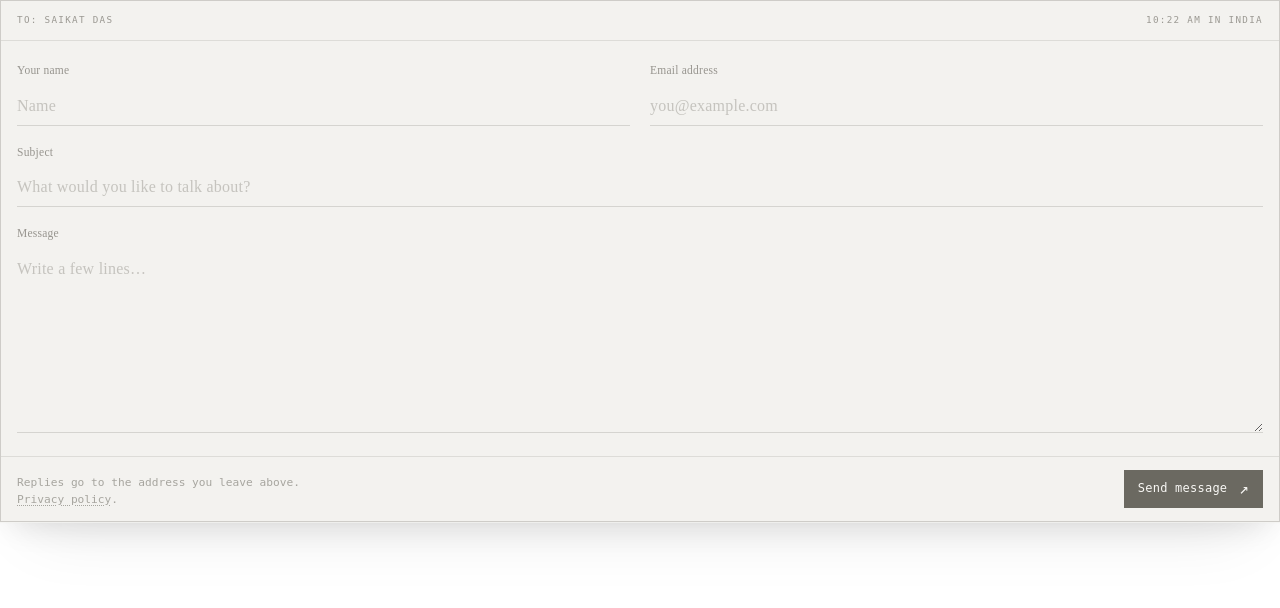
Test: ContactForm › explains a rate limit and returns to idle once the visitor edits
The width and height of the screenshot is (1280, 608).
Type "Ada Example" into the field labelled "Your name" at (324, 106), box [17,87,630,126]
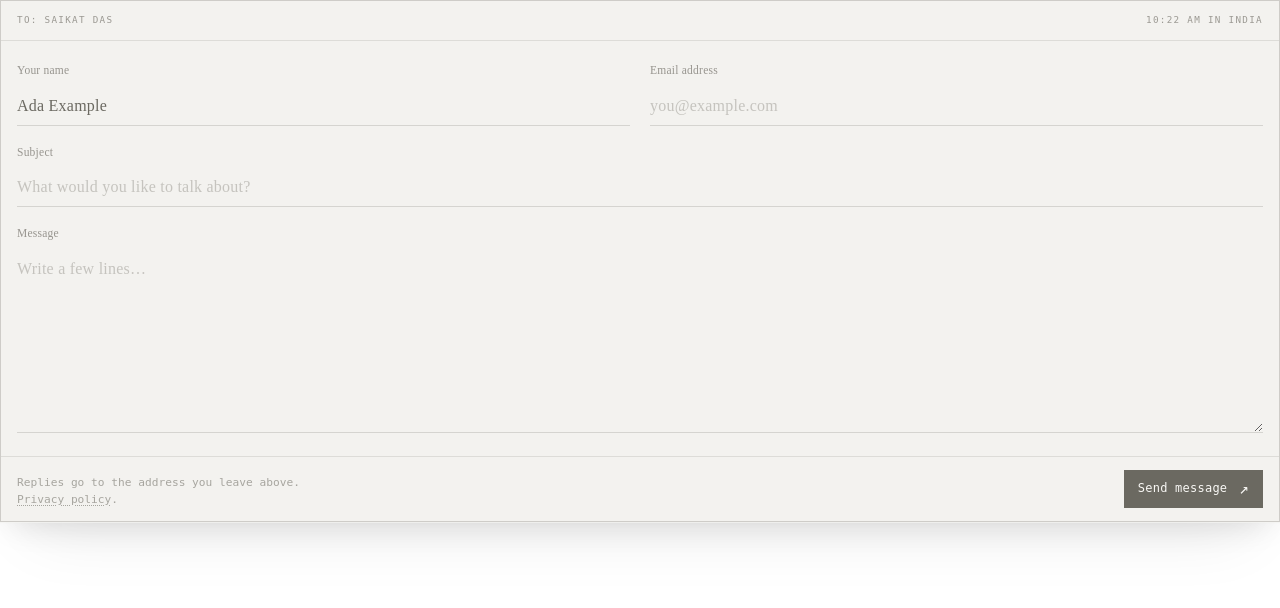
Type "ada@example.com" into the field labelled "Email address" at (956, 106), box [650,87,1263,126]
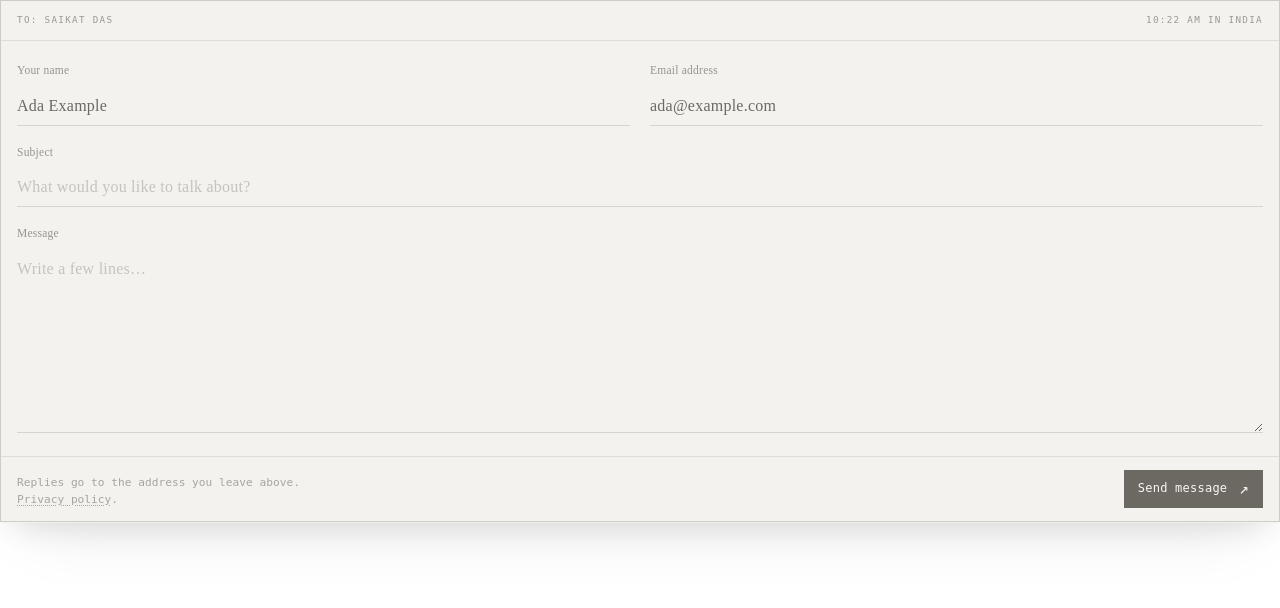
Type "A product question" into the field labelled "Subject" at (640, 188), box [17,168,1263,207]
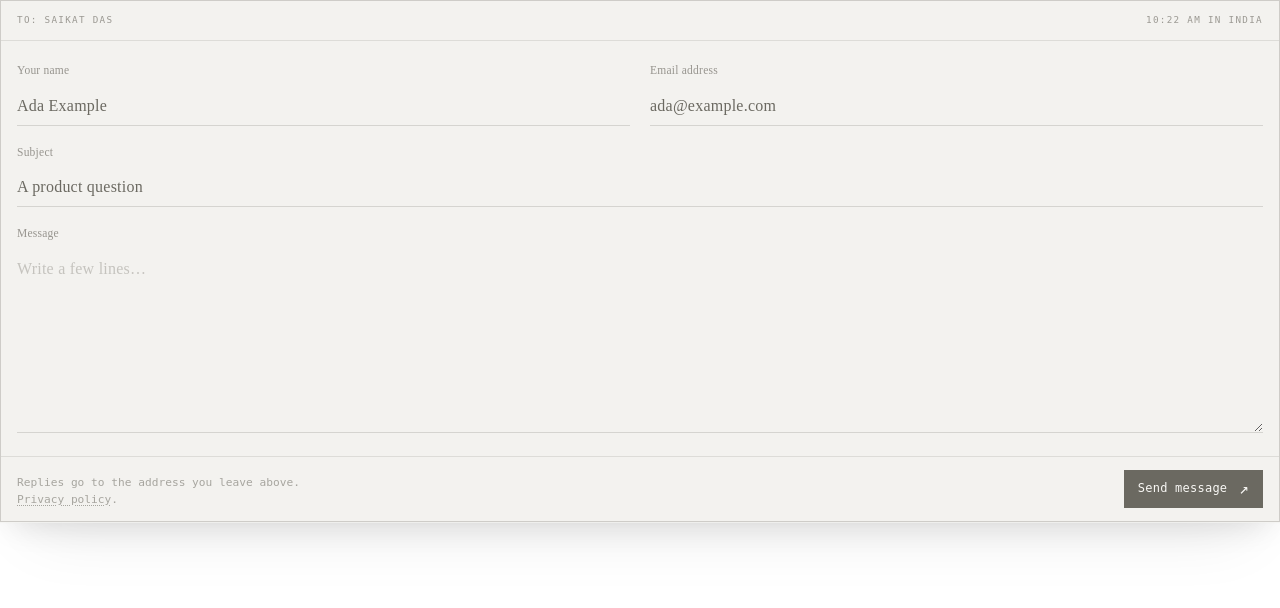
Type "I would like to discuss a product idea." into the text box labelled "Message" at (640, 341), box [17,250,1263,433]
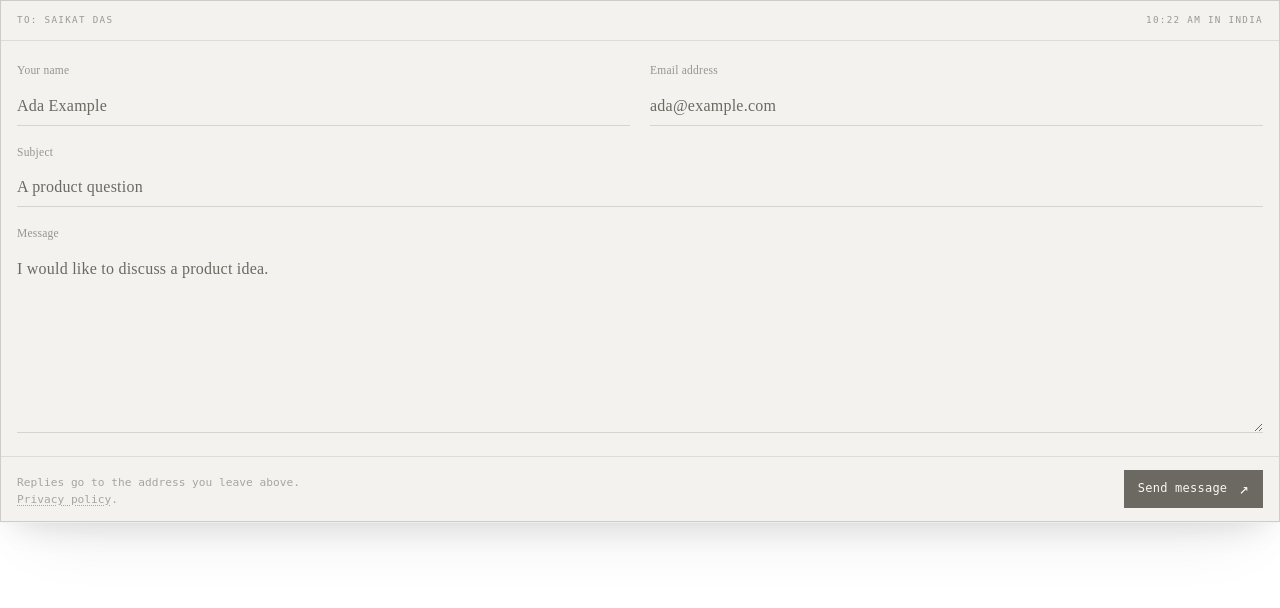
Submit the form
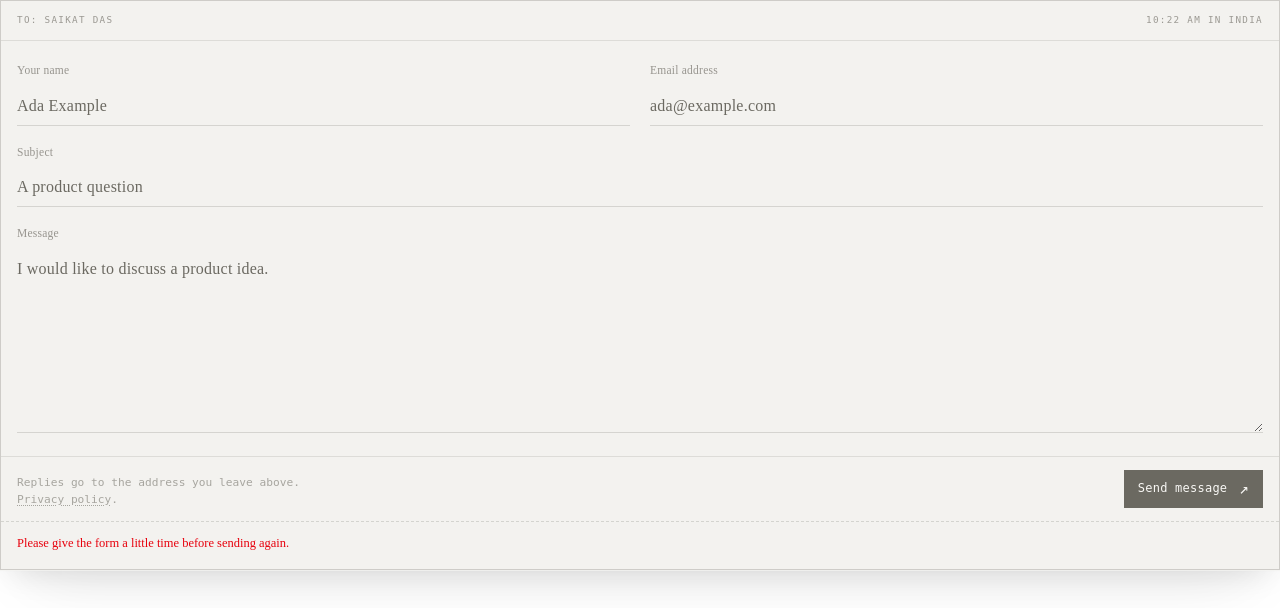
Now the message shows "a little time", box [17,536,289,550]
Replace the text in the field labelled "Subject" with "Edited" at (640, 188), box [17,168,1263,207]
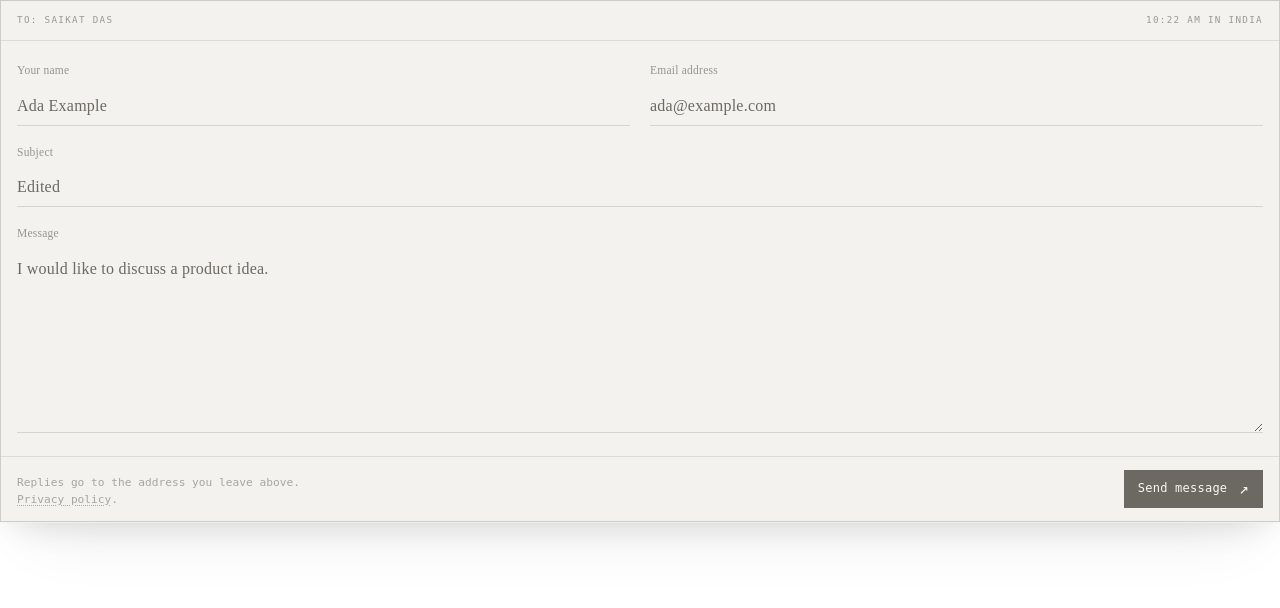
Now the message "Please give the form a little time before sending again." is gone
